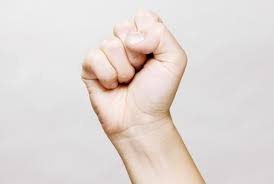closed: (79, 10, 189, 138)
